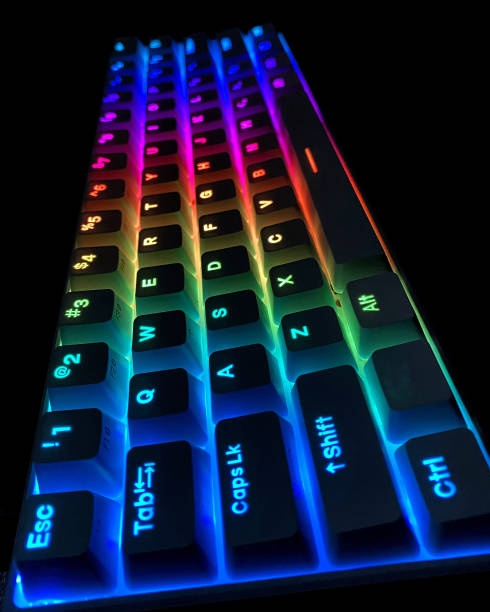keyboard: (14, 16, 490, 610)
